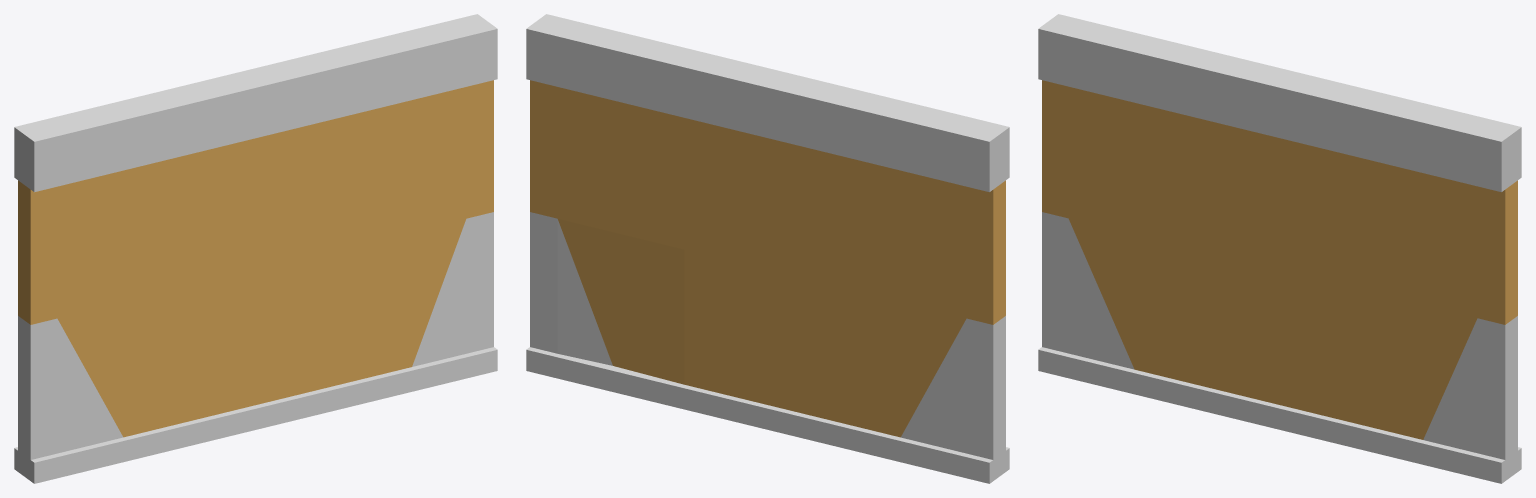
Rendered from wall platform.fbx.
3 views of the same model, side by side, from view 1: azimuth 30°, elevation 25°; view 2: azimuth 150°, elevation 25°; view 3: azimuth 330°, elevation 25° (orthographic).
Visible parts, largest first — view 1: Cube.094; view 2: Cube.094; view 3: Cube.094.
Part boxes in pixels (x1,y1,x2,y2): Cube.094: (14,14,497,483); Cube.094: (526,14,1009,483); Cube.094: (1038,14,1521,483).
Bounding box in the file's own units: 605 × 427 × 45.78.
